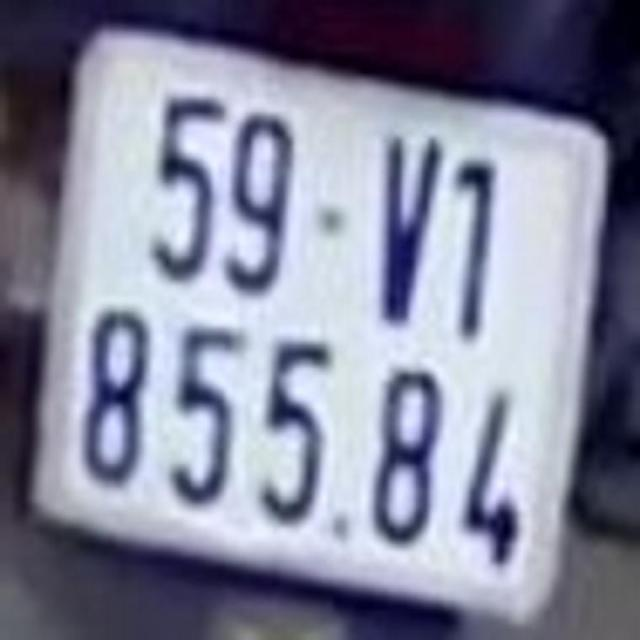1: (458, 153, 492, 345)
4: (464, 385, 522, 576)
5: (149, 94, 219, 284), (170, 322, 240, 508), (263, 338, 331, 528)
8: (372, 364, 441, 550), (81, 308, 151, 477)
9: (225, 108, 295, 302)
V: (375, 132, 448, 332)
